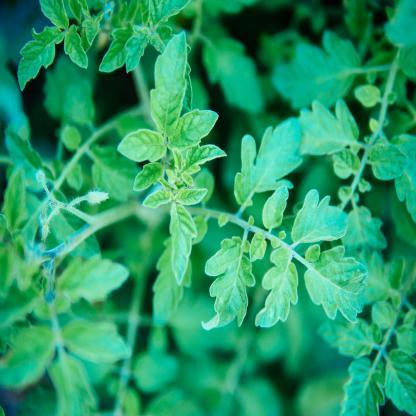Tomato leaf bacterial spot: (232, 114, 300, 215), (202, 230, 256, 338), (302, 244, 368, 324), (150, 28, 184, 142), (290, 188, 352, 250), (260, 240, 296, 344), (164, 105, 224, 151), (167, 198, 196, 286), (117, 129, 166, 164)
